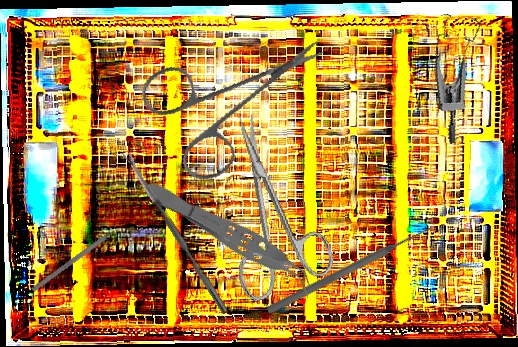Hook Surgical: (31, 222, 124, 293)
Iris Scissors: (124, 0, 326, 203), (201, 102, 340, 305)
Pusher: (265, 221, 436, 317)
Speculum: (415, 5, 510, 145)
Surgical Spoon: (122, 149, 230, 315)
Tissue Forceps: (137, 173, 324, 300)
